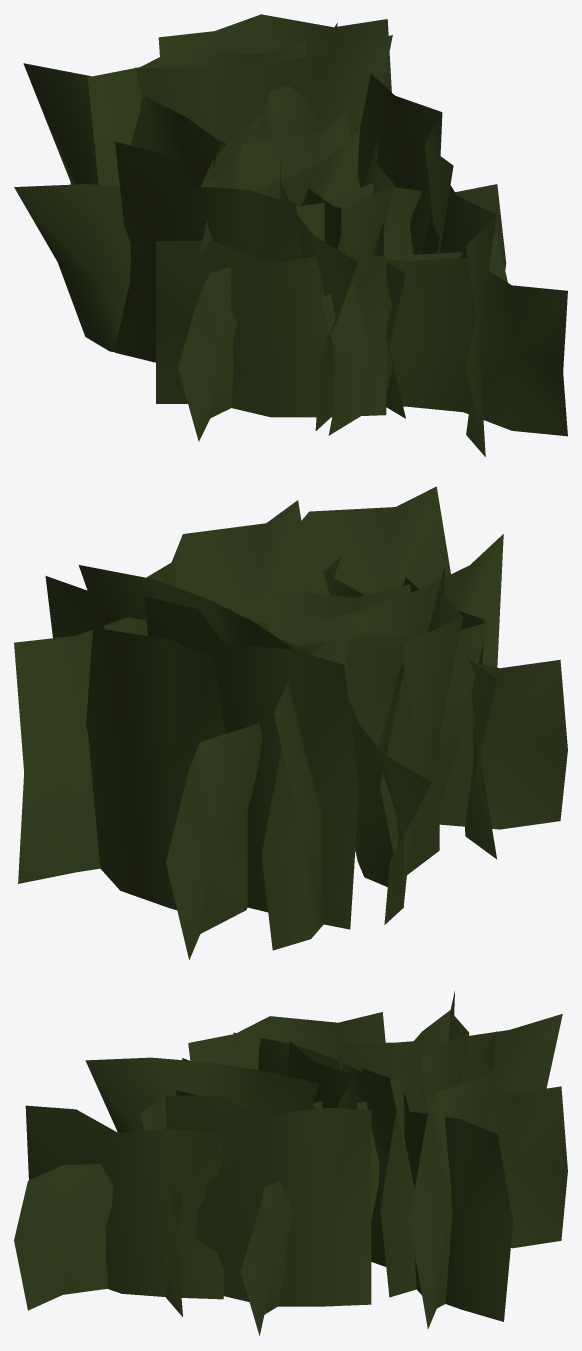
The model's file is rail_grass_01.fbx.
3 views of the same model, one above another, from view 1: azimuth 30°, elevation 25°; view 2: azimuth 150°, elevation 25°; view 3: azimuth 270°, elevation 25° (orthographic). The views are drawn at different scales.
Visible parts, largest first — view 1: Mesh1; view 2: Mesh1; view 3: Mesh1.
Part boxes in pixels (x1=…): Mesh1: x1=14, y1=14, x2=567, y2=456; Mesh1: x1=14, y1=486, x2=567, y2=959; Mesh1: x1=14, y1=991, x2=567, y2=1335.
Size of the model in its own units: 162 by 100 by 232.
